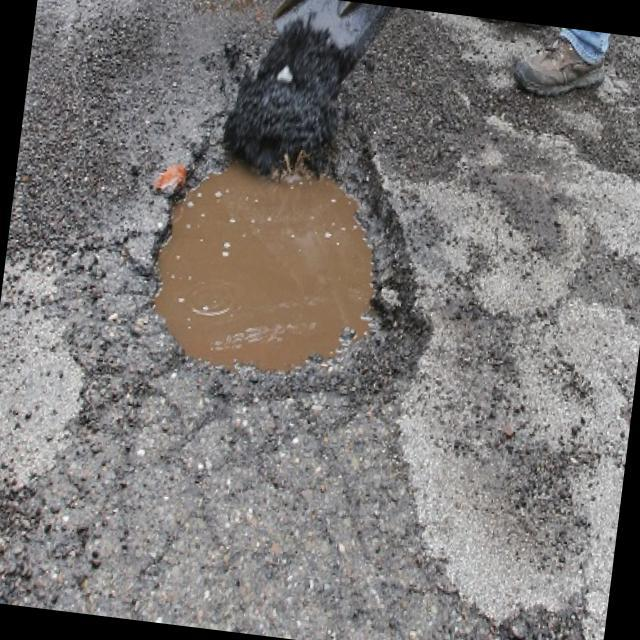Pothole: (117, 71, 440, 418)
